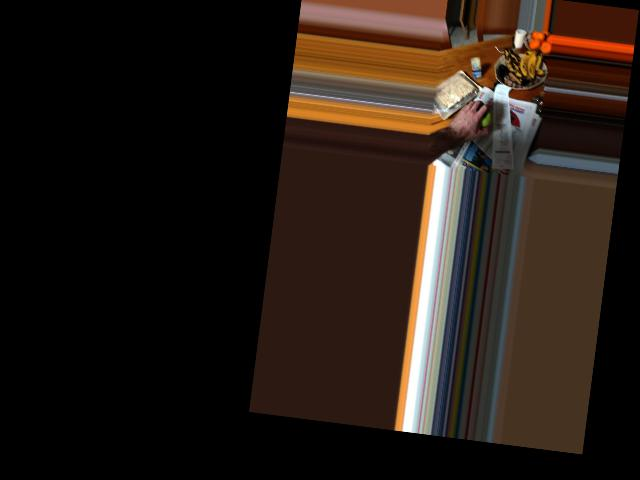apple: (464, 103, 493, 133)
